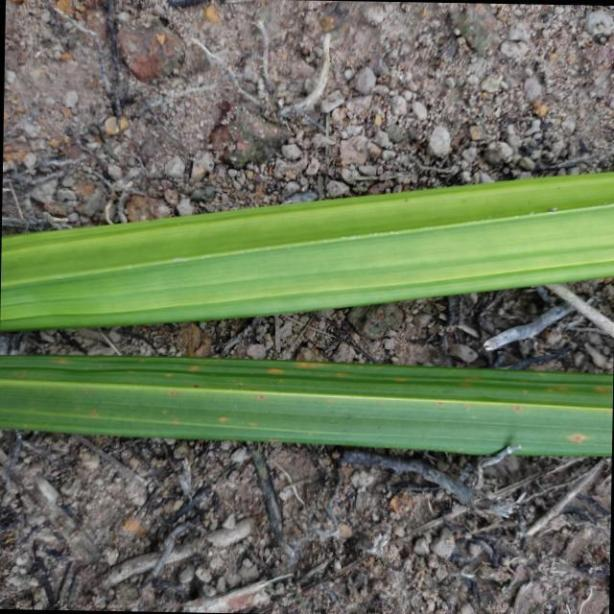nitrogen: (0, 170, 614, 338), (0, 352, 614, 460)
